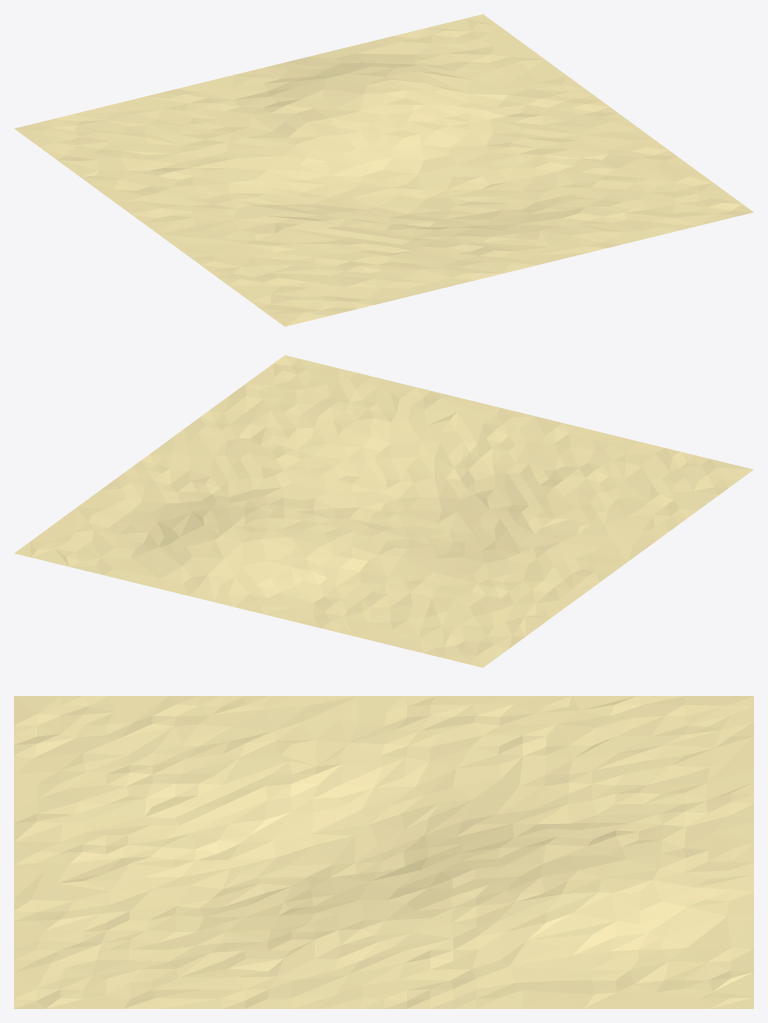
File: Terrain_m_03.fbx
3 views of the same model, one above another, from view 1: azimuth 30°, elevation 25°; view 2: azimuth 150°, elevation 25°; view 3: azimuth 270°, elevation 25° (orthographic). The views are drawn at different scales.
Parts seen in each view (by area): view 1: Terrain_m_03; view 2: Terrain_m_03; view 3: Terrain_m_03.
Boxes of the visible parts, left/top/right/bottom form: Terrain_m_03: left=14, top=14, right=753, bottom=326; Terrain_m_03: left=14, top=355, right=753, bottom=667; Terrain_m_03: left=14, top=696, right=753, bottom=1008.
Bounding box in the file's own units: 10000 × 487 × 10000.
